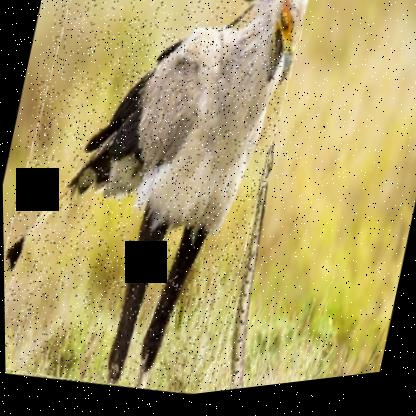Sagittarius serpentarius: (0, 0, 315, 415)
